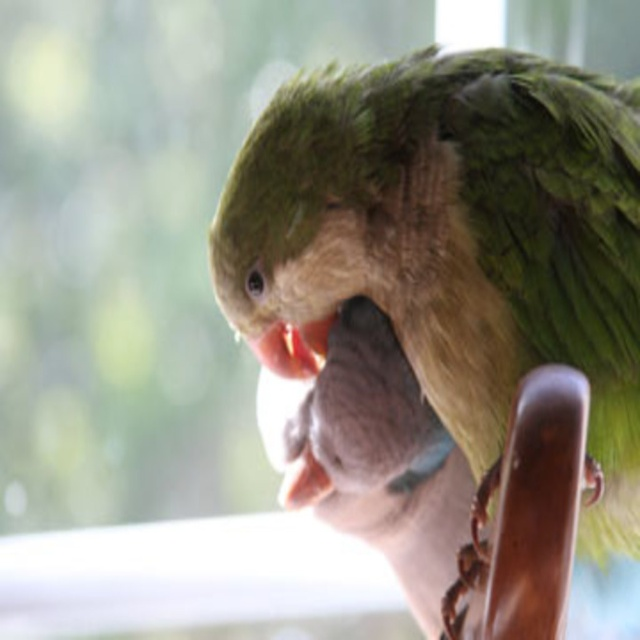Parrot: (206, 43, 640, 640)
